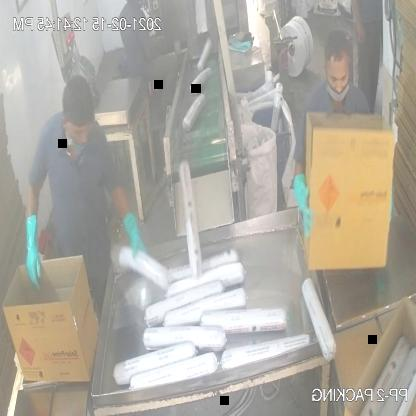glove: (20, 209, 50, 303), (290, 160, 314, 244), (122, 208, 150, 266)
